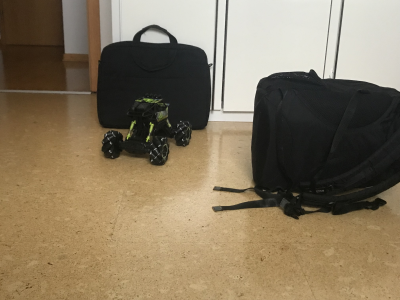remote control car: (100, 93, 193, 167)
